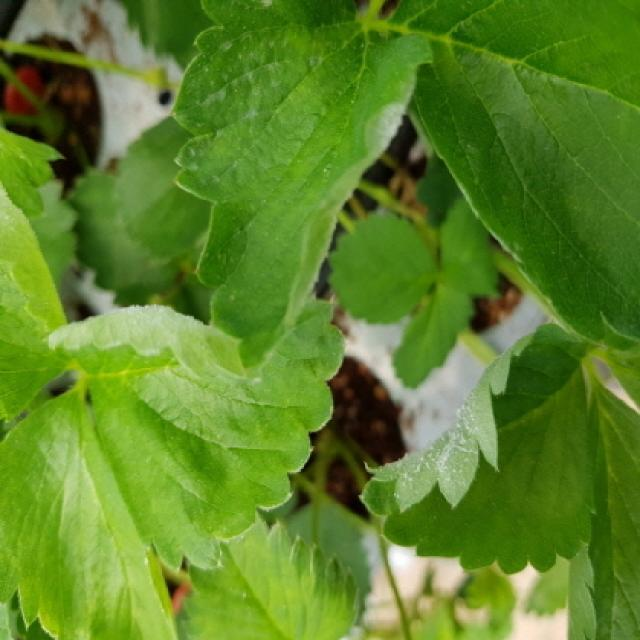powdery_mildew_leaf: (43, 296, 345, 572), (359, 324, 598, 574)
